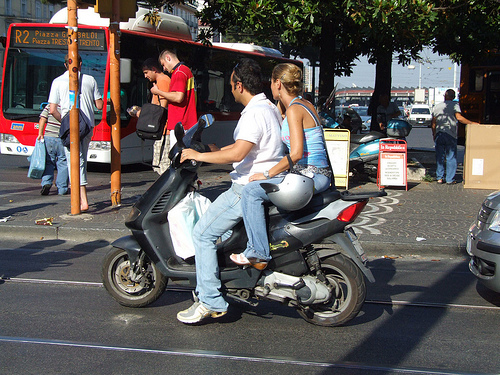helmet: (266, 177, 319, 210)
